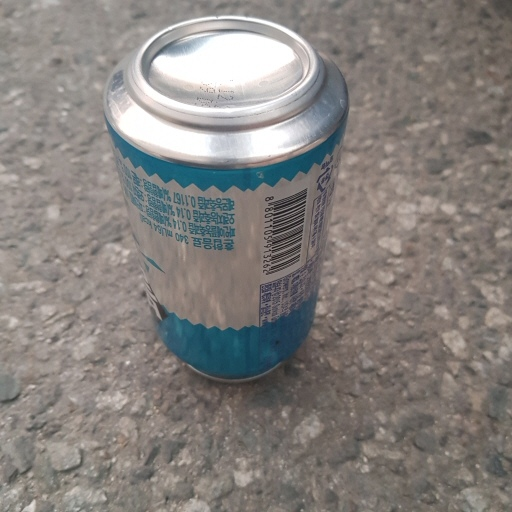Metal_0: (105, 15, 352, 386)
